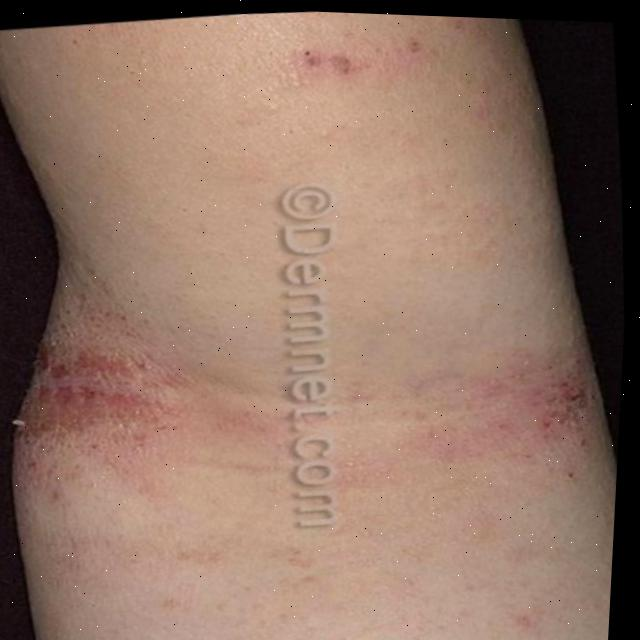Eczema: (418, 312, 625, 487), (0, 324, 190, 483), (278, 16, 427, 102)
